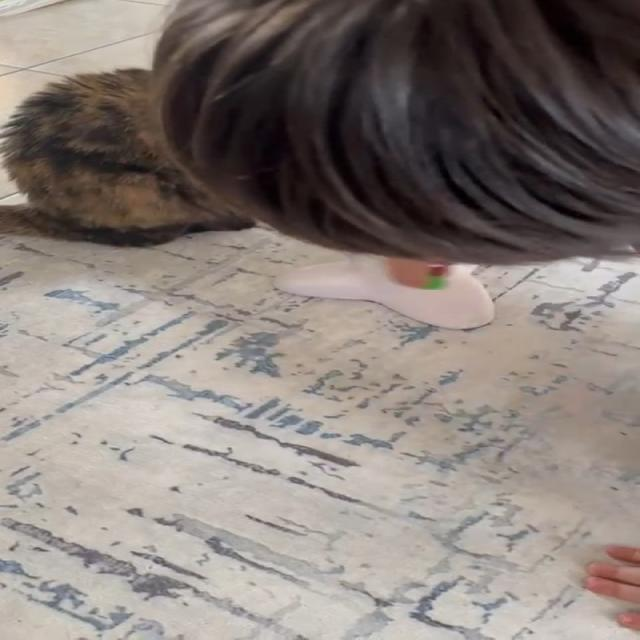authorized: (0, 0, 639, 331), (0, 66, 256, 248)
